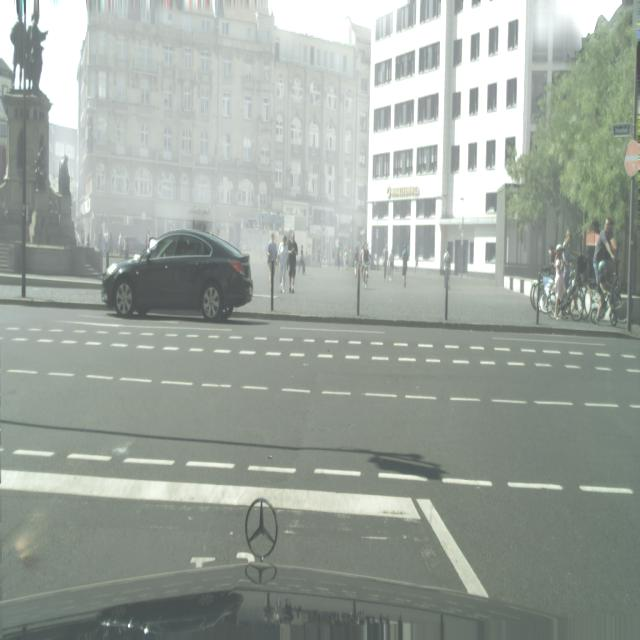car: (536, 230, 585, 322), (589, 217, 622, 326), (362, 242, 370, 287)
person: (287, 231, 298, 294), (267, 232, 277, 294), (278, 234, 288, 294), (442, 246, 452, 290), (401, 242, 409, 288), (382, 243, 389, 280)
truck: (101, 228, 253, 322)
